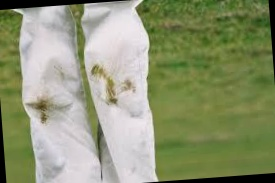earth: (34, 98, 52, 125), (104, 78, 116, 104), (92, 63, 105, 76), (119, 79, 133, 91)
